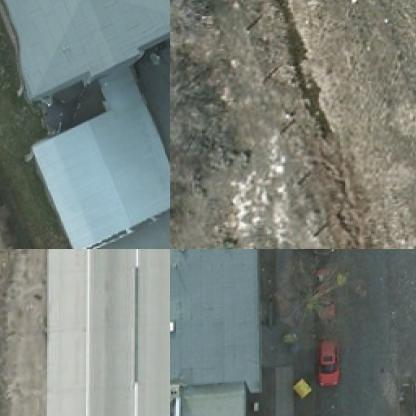car: (316, 338, 346, 394), (316, 262, 340, 324), (313, 249, 342, 257)
